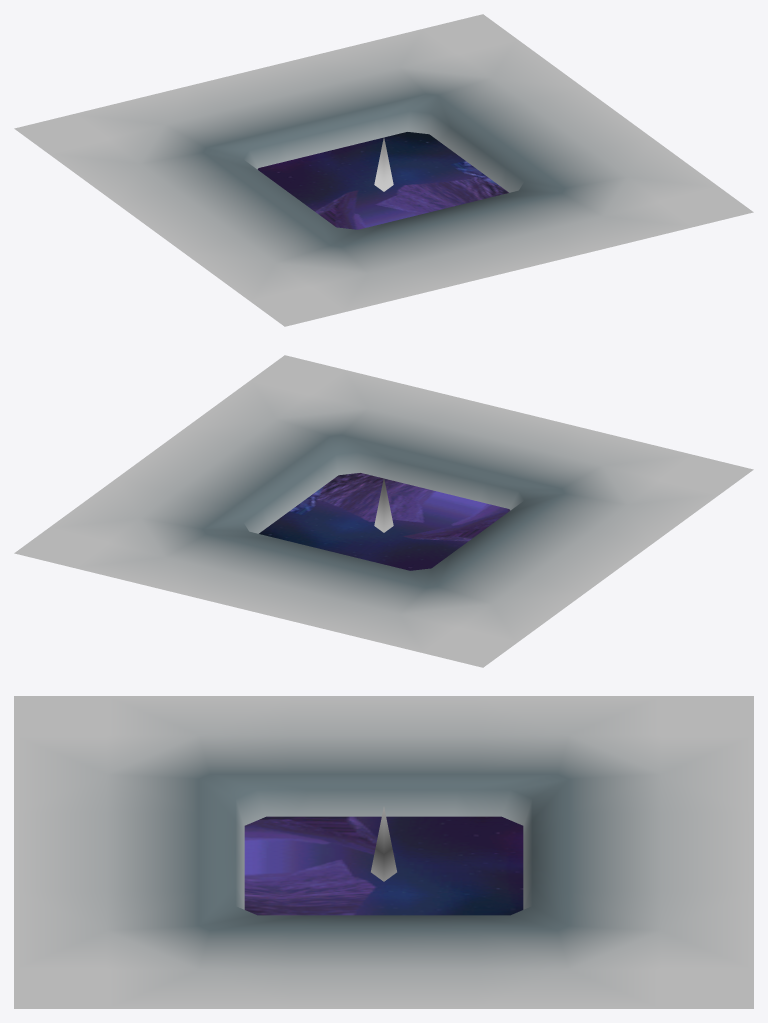
Rendered from depool01.fbx.
3 views of the same model, one above another, from view 1: azimuth 30°, elevation 25°; view 2: azimuth 150°, elevation 25°; view 3: azimuth 270°, elevation 25° (orthographic). The views are drawn at different scales.
Parts seen in each view (by area): view 1: grid1, chrome, hp_emit_1; view 2: grid1, chrome, hp_emit_1; view 3: grid1, chrome, hp_emit_1.
Part boxes in pixels (bbox=[...]): grid1: bbox=[14, 14, 753, 326]; chrome: bbox=[257, 132, 508, 229]; hp_emit_1: bbox=[374, 137, 393, 191]; grid1: bbox=[14, 355, 753, 667]; chrome: bbox=[259, 473, 510, 570]; hp_emit_1: bbox=[374, 478, 393, 532]; grid1: bbox=[14, 696, 753, 1008]; chrome: bbox=[244, 816, 523, 915]; hp_emit_1: bbox=[371, 807, 396, 881].
Bounding box in the file's own units: 32 × 5 × 32.
